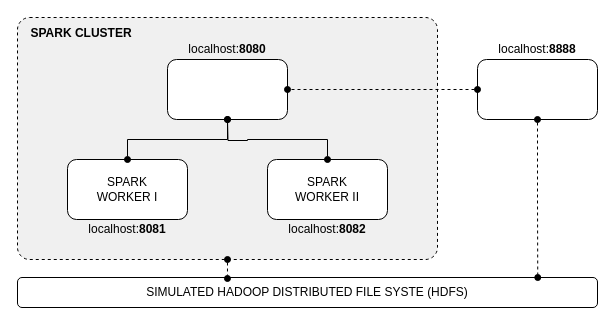
Some shapes in this 615 by 325 pixel diagram are drawn without their labels. The centre of each missing label's shape, as x and y in pixels:
JUPYTERLAB: the point at 537,89
SPARK MASTER: the point at 227,89
